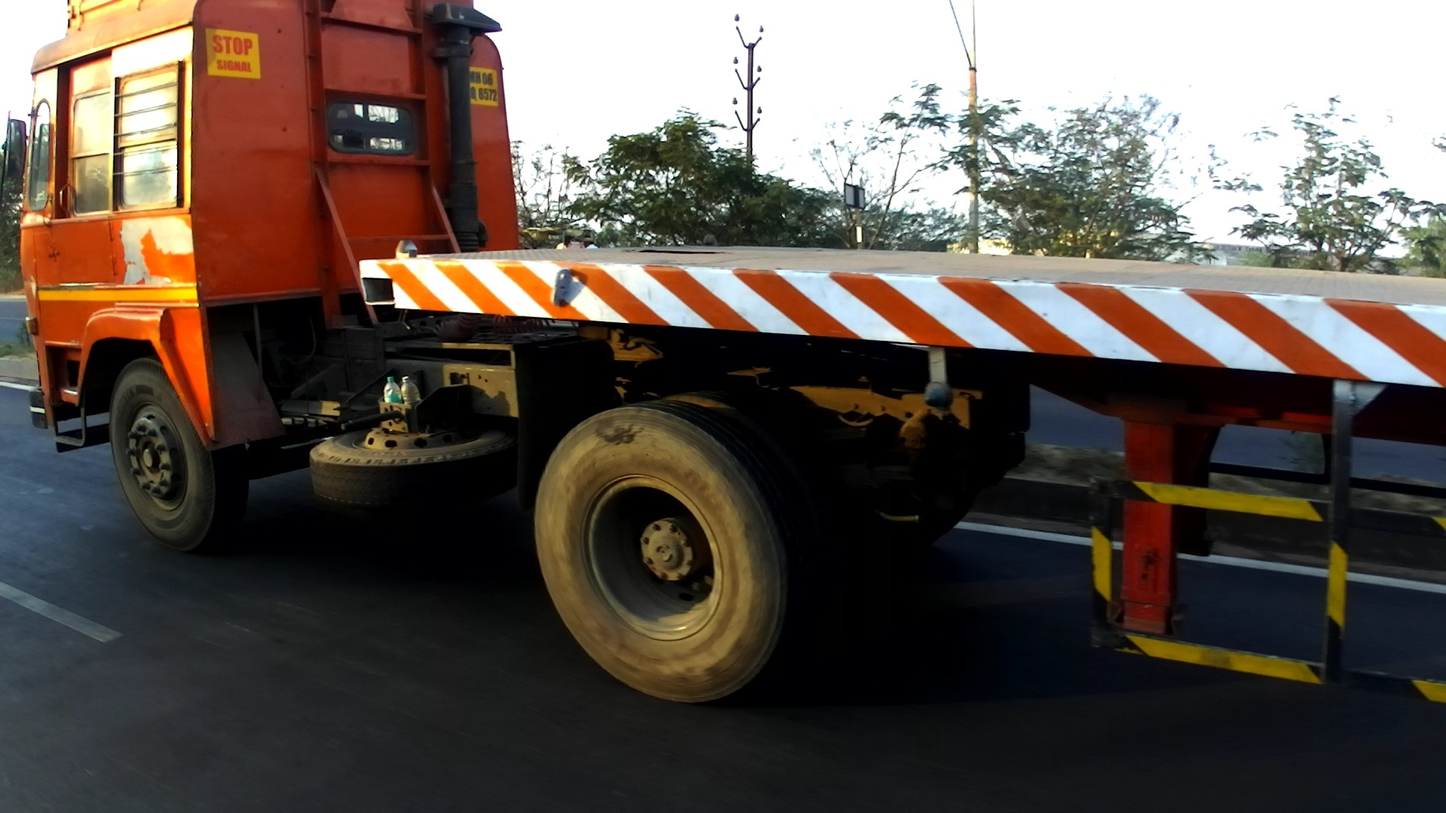truck: (2, 0, 1443, 707)
